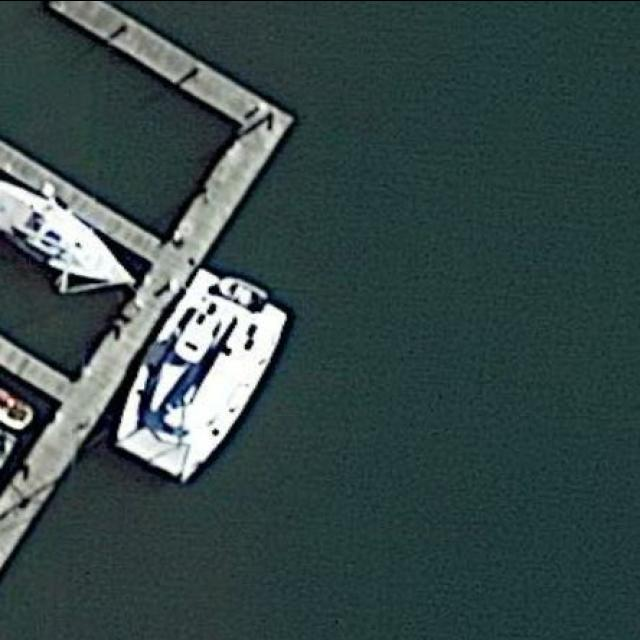ship: (112, 264, 298, 492), (1, 170, 142, 294)
